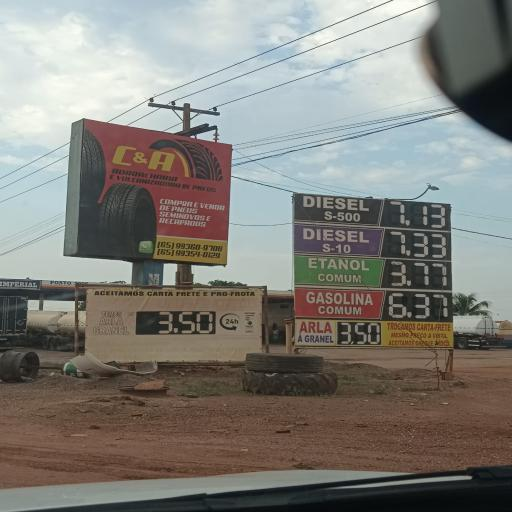ETANOL: (304, 256, 377, 288)
GASOLINA C: (303, 290, 376, 317)
S10: (299, 227, 379, 255)
S500: (299, 195, 379, 225)
placa: (294, 193, 454, 324)
preco: (388, 291, 452, 321), (387, 260, 451, 289), (388, 230, 449, 260), (385, 201, 449, 228)
